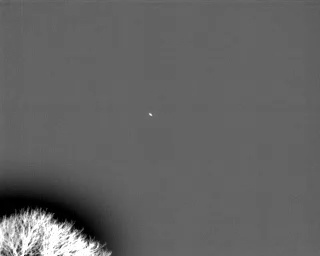BIRD: (147, 110, 154, 119)
